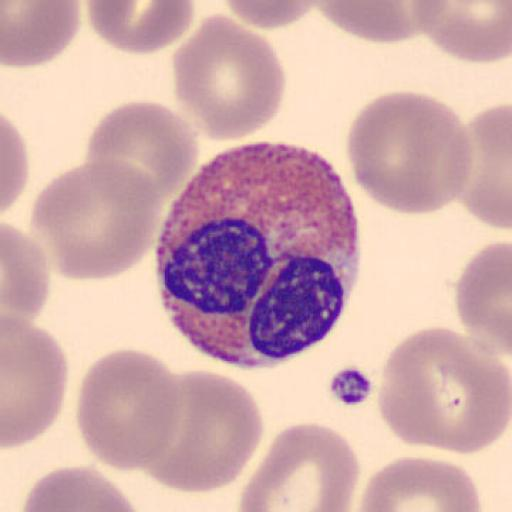RBC: (376, 324, 510, 456), (133, 366, 265, 496), (344, 89, 475, 217), (31, 157, 165, 282), (172, 13, 286, 142), (75, 346, 182, 475), (82, 99, 200, 206), (237, 421, 362, 512), (1, 312, 70, 450), (356, 454, 482, 512), (455, 102, 512, 229), (453, 239, 512, 352), (411, 0, 512, 65), (84, 0, 196, 55), (19, 465, 142, 512), (310, 0, 437, 44), (2, 0, 82, 69), (3, 223, 51, 324), (0, 112, 30, 217), (220, 0, 319, 31)
WBC: (155, 138, 363, 370)
